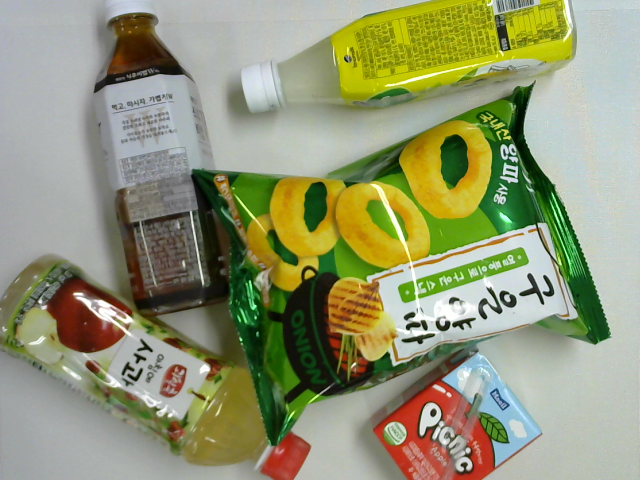Grilled_Onions: (190, 79, 613, 447)
Morning_Apple_500ml: (1, 251, 313, 480)
Picnic_Apple: (363, 345, 544, 480)
Post-meal_recipe_W_tea_500ml: (93, 1, 234, 319)
Sunkist_Lemonaid_Pet: (238, 1, 579, 112)
